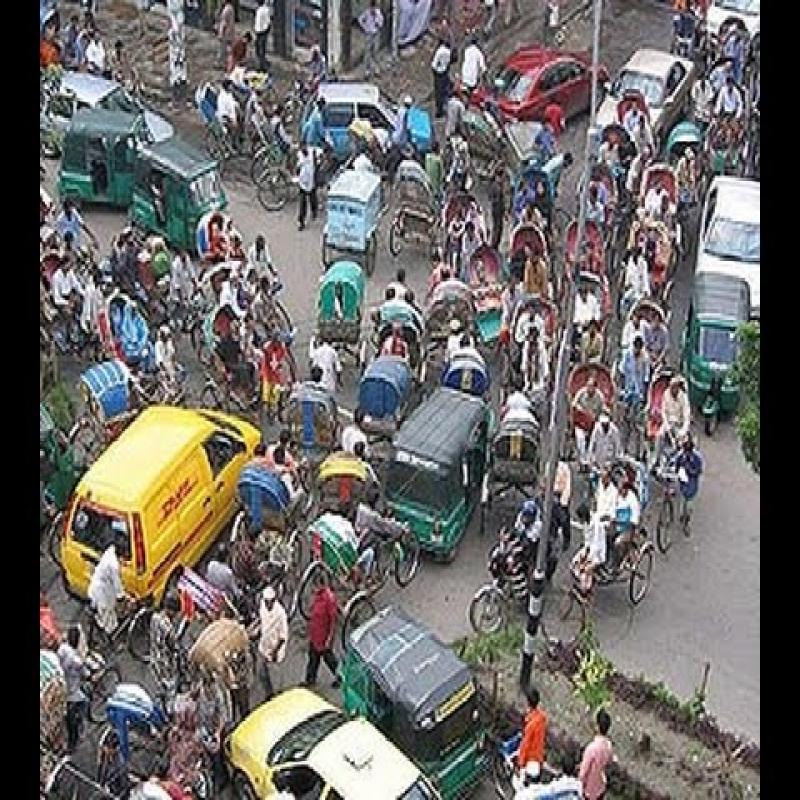auto: (328, 601, 486, 775), (664, 269, 751, 417), (128, 138, 233, 259), (384, 401, 465, 554)
car: (696, 158, 790, 301), (484, 49, 576, 129)
